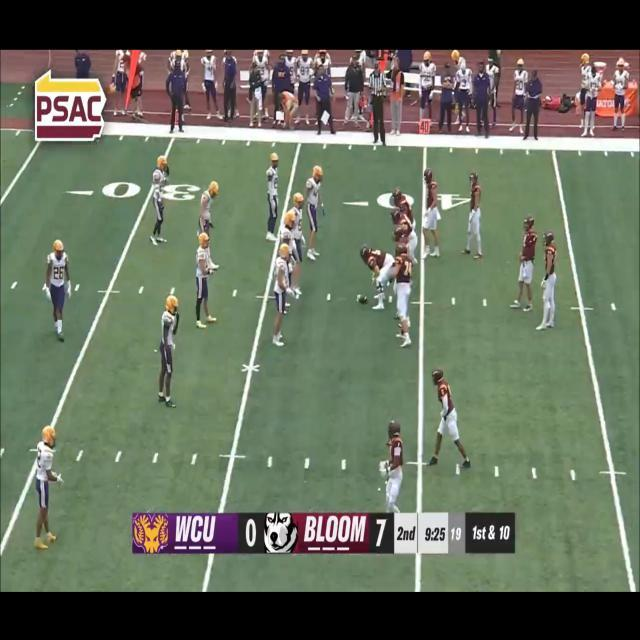football: (356, 294, 368, 306)
